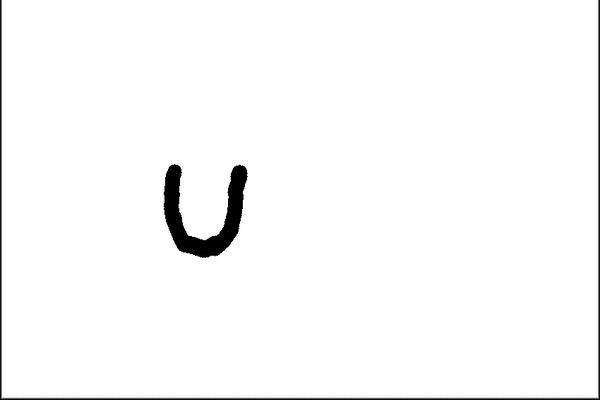U: (153, 156, 259, 261)
